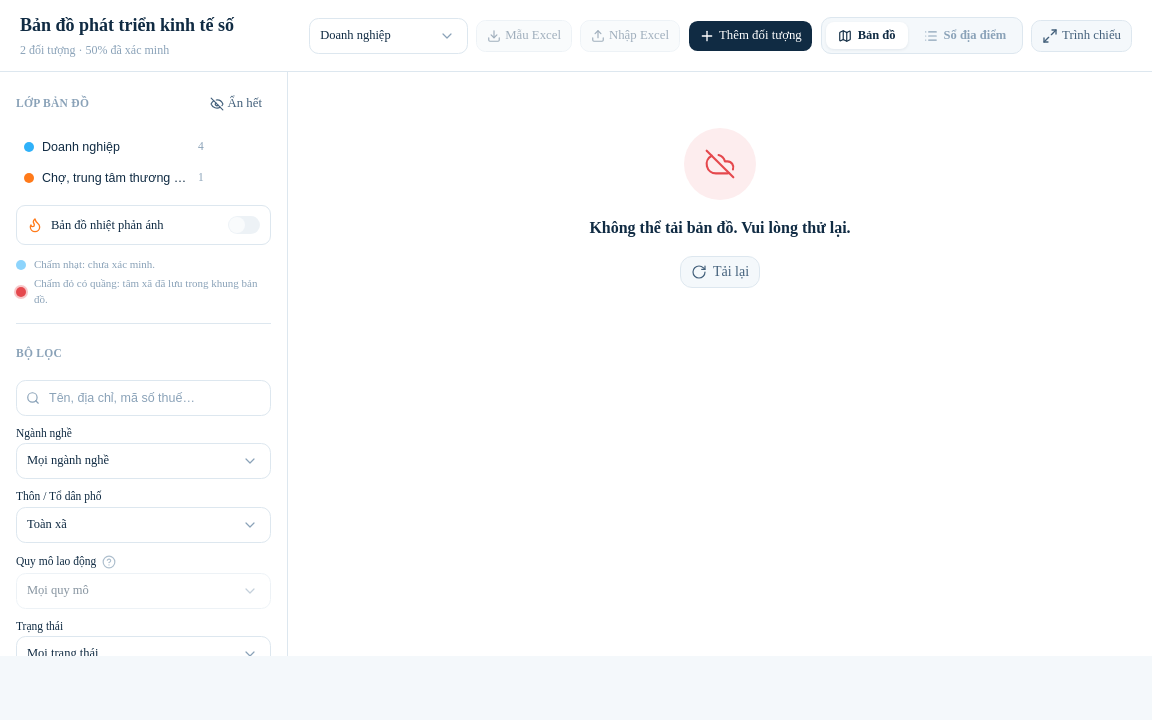
Test: add / edit dialog (spec 07) › the app's dialog at sm:max-w-2xl, 86vh, scrolling; an ✕ top-right closes it
The image size is (1152, 720).
Step 1. Click the button "Thêm đối tượng" → (750, 36), box [688, 20, 813, 52]
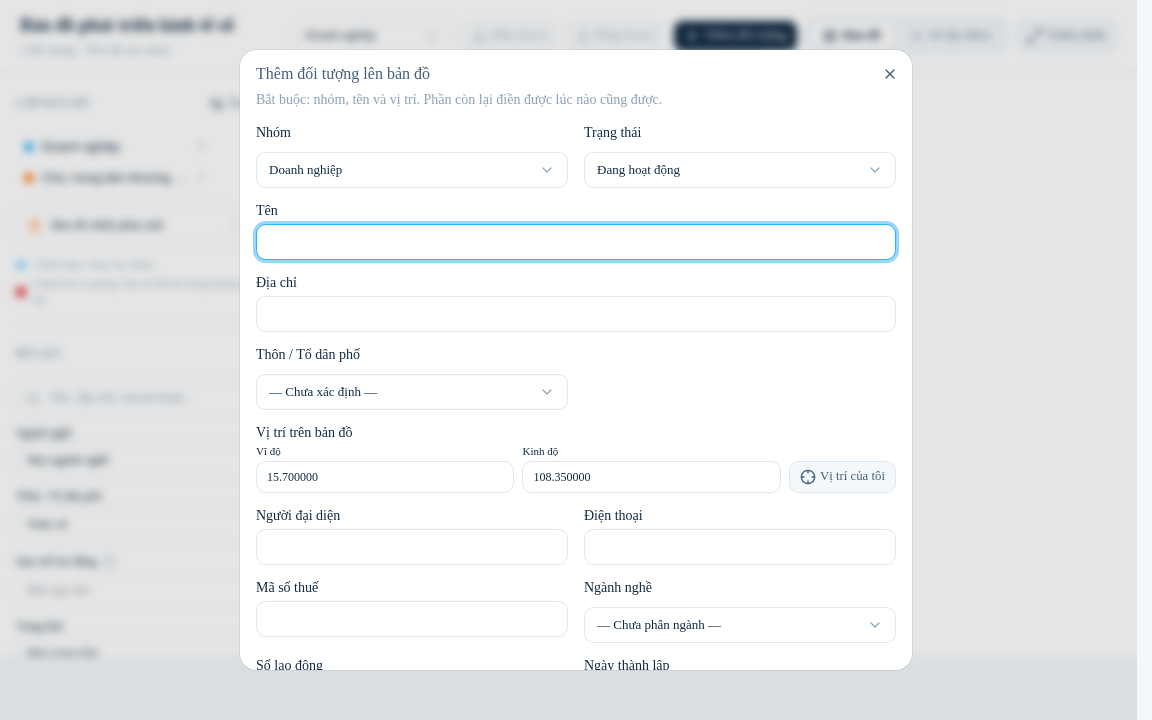
Expected: the button named "Đóng" is shown
Step 2. Click the button named "Đóng" → (890, 74), box [876, 58, 904, 90]
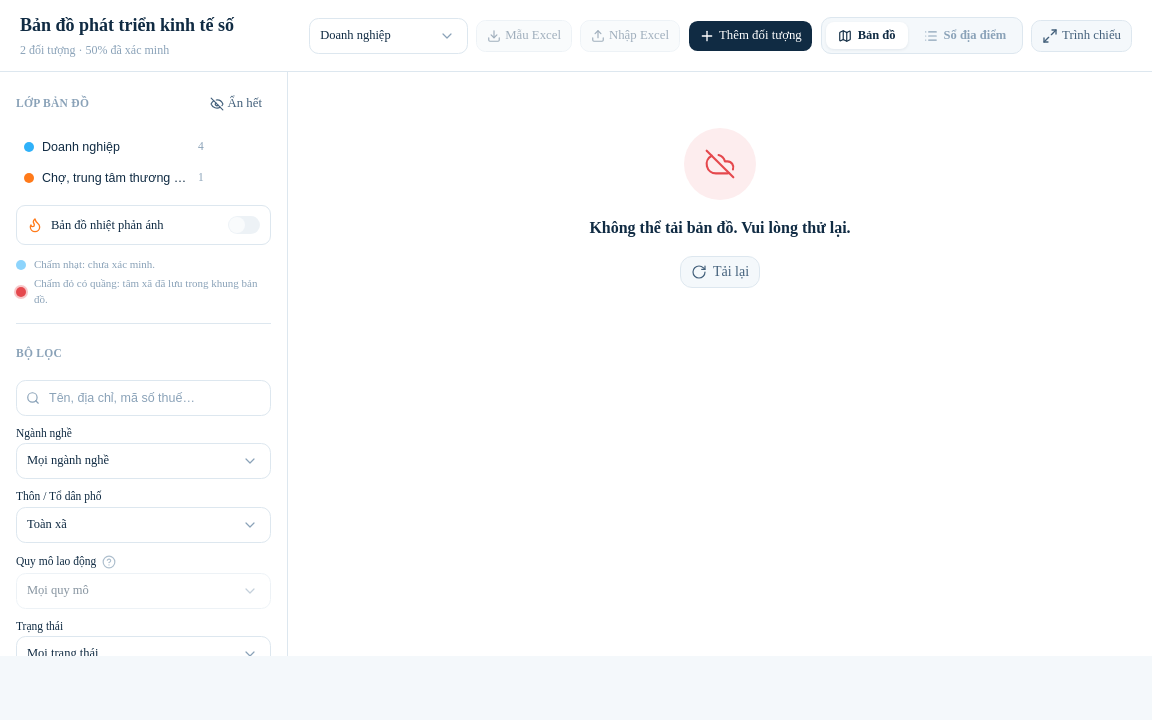
Expected: the dialog is gone
